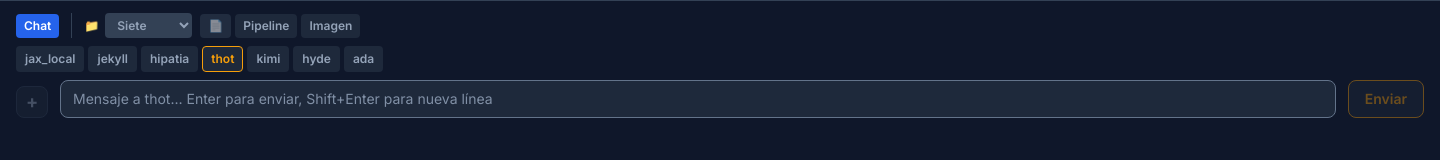
BottomBar -- selector de proyecto y botón de documentos por modo › cambiar de modo conserva el proyecto elegido
Expected: the dropdown named "Proyecto" shows "Siete", [105,13,192,38]
Click the button "Pipeline" at (266, 26), box [235,14,298,38]
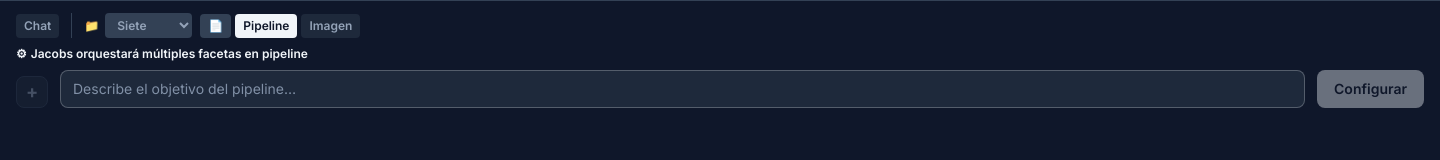
Expected: the dropdown named "Proyecto" shows "Siete", [105,13,192,38]
Click the button "Imagen" at (331, 26), box [302,14,360,38]
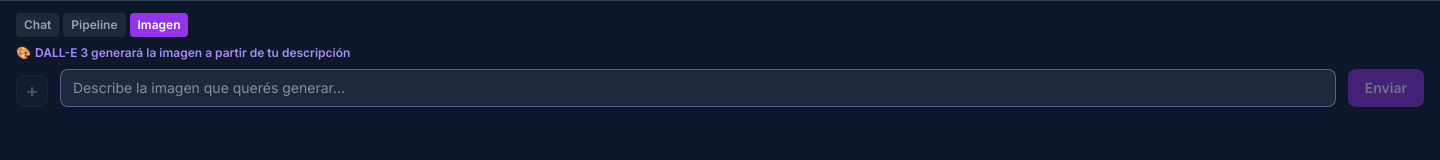
Click the button "Chat" at (38, 25), box [16,13,59,37]
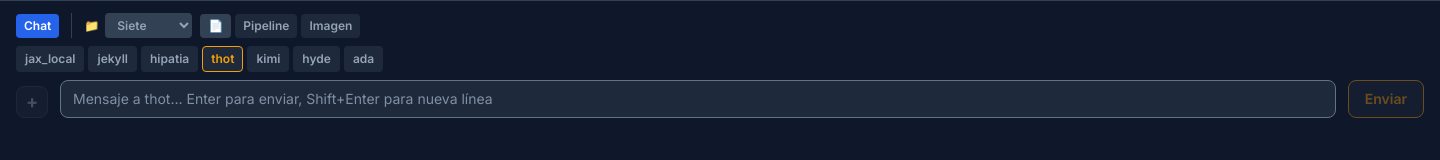
Expected: the dropdown named "Proyecto" shows "Siete", [105,13,192,38]
